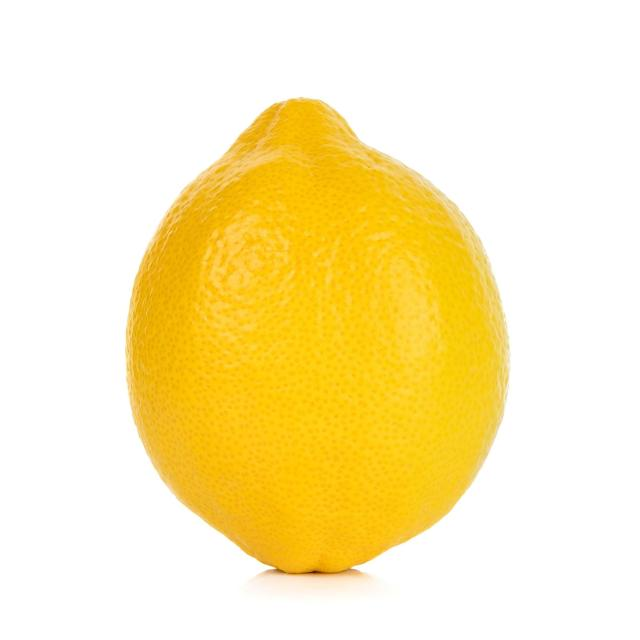lemon: (118, 93, 516, 582)
